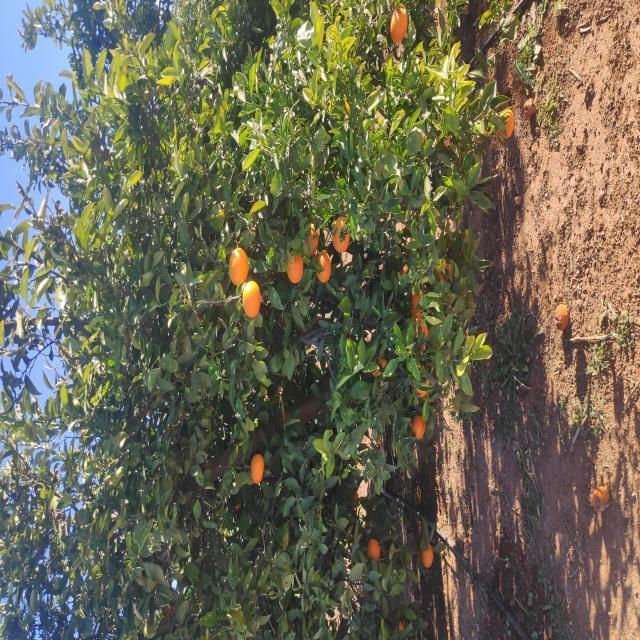Jeruk Sudah Matang: (354, 228, 392, 248), (322, 242, 359, 260), (388, 332, 424, 350), (596, 390, 632, 408), (357, 286, 390, 304), (243, 412, 274, 430), (384, 302, 418, 318), (288, 413, 322, 428), (501, 498, 532, 514), (357, 316, 389, 331), (156, 250, 186, 264), (321, 411, 351, 424), (201, 412, 225, 426), (78, 367, 102, 380), (358, 434, 377, 450), (72, 422, 96, 434), (8, 399, 20, 404)
